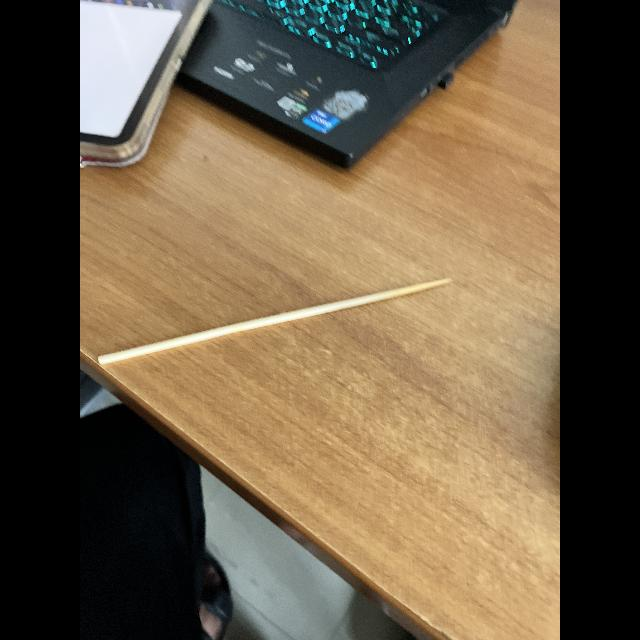stick: (90, 260, 466, 388)
